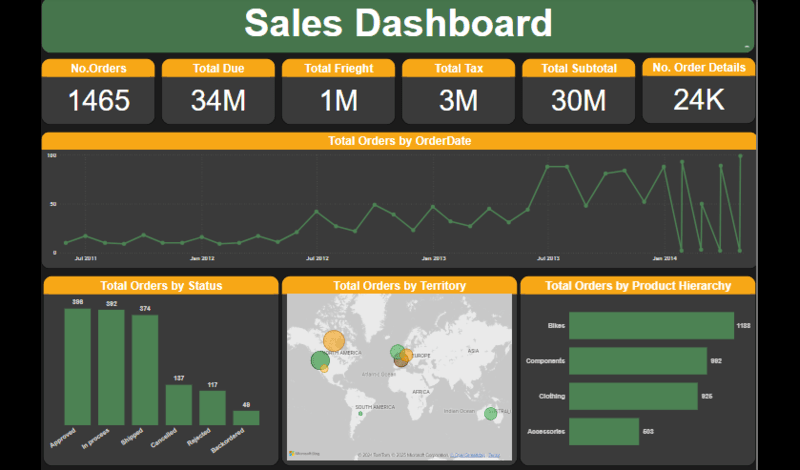

The dashboard page shown, as its layout file describes it:
{"tool":"powerbi","page":{"name":"Dashboard","canvas":[1500,1000],"ordinal":0},"visuals":[{"type":"card","title":"No. Order Details","fields":{"Values":["Fact Sales.No.Order Details"]},"box":[1260,126,240,140],"z":0},{"type":"card","title":"No.Orders","fields":{"Values":["Fact Sales.No.Orders"]},"box":[0,128,240,140],"z":1000},{"type":"card","title":"Total Due","fields":{"Values":["Fact Sales.Total Due"]},"box":[252,128,240,140],"z":2000},{"type":"card","title":"Total Frieght","fields":{"Values":["Fact Sales.Total Freight"]},"box":[504,128,240,140],"z":3000},{"type":"card","title":"Total Subtotal","fields":{"Values":["Fact Sales.Total Subtotal"]},"box":[1008,128,240,140],"z":4000},{"type":"card","title":"Total Tax","fields":{"Values":["Fact Sales.TotalTax"]},"box":[756,128,240,140],"z":5000},{"type":"textbox","title":"Sales Dashboard","box":[0,0,1498,118],"z":6000},{"type":"lineChart","title":"Total Orders by OrderDate","fields":{"Category":["Fact Sales.OrderDate"],"Y":["Fact Sales.No.Orders"]},"box":[0,282,1504,288],"z":7000},{"type":"columnChart","title":"Total Orders by Status","fields":{"Y":["Fact Sales.No.Orders"],"Category":["Status Dim.Status"]},"box":[4,584,496,400],"z":8000},{"type":"map","title":"Total Orders by Territory","fields":{"Size":["Fact Sales.No.Orders"],"Category":["Territory Dim.Territory"]},"box":[504,584,496,400],"z":9000},{"type":"clusteredBarChart","title":"Total Orders by Product Hierarchy","fields":{"Category":["Product Dim.Product Hierarchy.Product","Product Dim.Product Hierarchy.ProductSubCategory","Product Dim.Product Hierarchy.ProductCategory"],"Y":["Fact Sales.No.Orders"]},"box":[1004,584,496,400],"z":10000}]}

Visuals, with their boxes on the page's 1500x1000 design canvas (x1, y1, x2, y2). These are canvas units, not pixel positions in the 800x470 screenshot, which may show the page scaled, cropped or inside an application window:
"No. Order Details" card: (x1=1260, y1=126, x2=1500, y2=266)
"No.Orders" card: (x1=0, y1=128, x2=240, y2=268)
"Total Due" card: (x1=252, y1=128, x2=492, y2=268)
"Total Frieght" card: (x1=504, y1=128, x2=744, y2=268)
"Total Subtotal" card: (x1=1008, y1=128, x2=1248, y2=268)
"Total Tax" card: (x1=756, y1=128, x2=996, y2=268)
"Sales Dashboard" textbox: (x1=0, y1=0, x2=1498, y2=118)
"Total Orders by OrderDate" lineChart: (x1=0, y1=282, x2=1504, y2=570)
"Total Orders by Status" columnChart: (x1=4, y1=584, x2=500, y2=984)
"Total Orders by Territory" map: (x1=504, y1=584, x2=1000, y2=984)
"Total Orders by Product Hierarchy" clusteredBarChart: (x1=1004, y1=584, x2=1500, y2=984)
